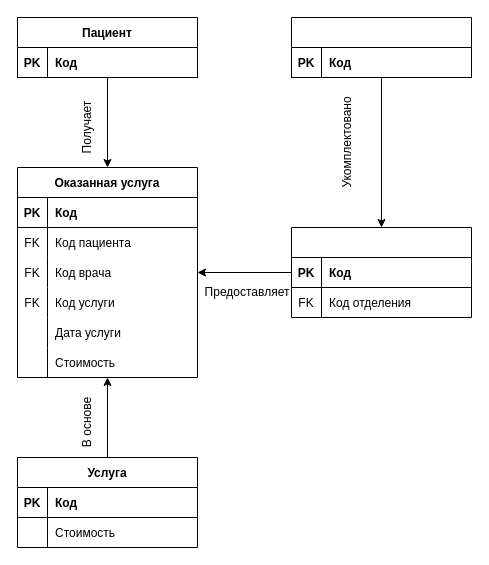
The diagram is 489 pixels wide and 565 high, and some of its shapes have lost their labels. The box of each missing label's shape, as (x1, y1, x2, y2) in pixels:
Врач: (290, 226, 472, 318)
Отделение: (290, 16, 472, 78)
